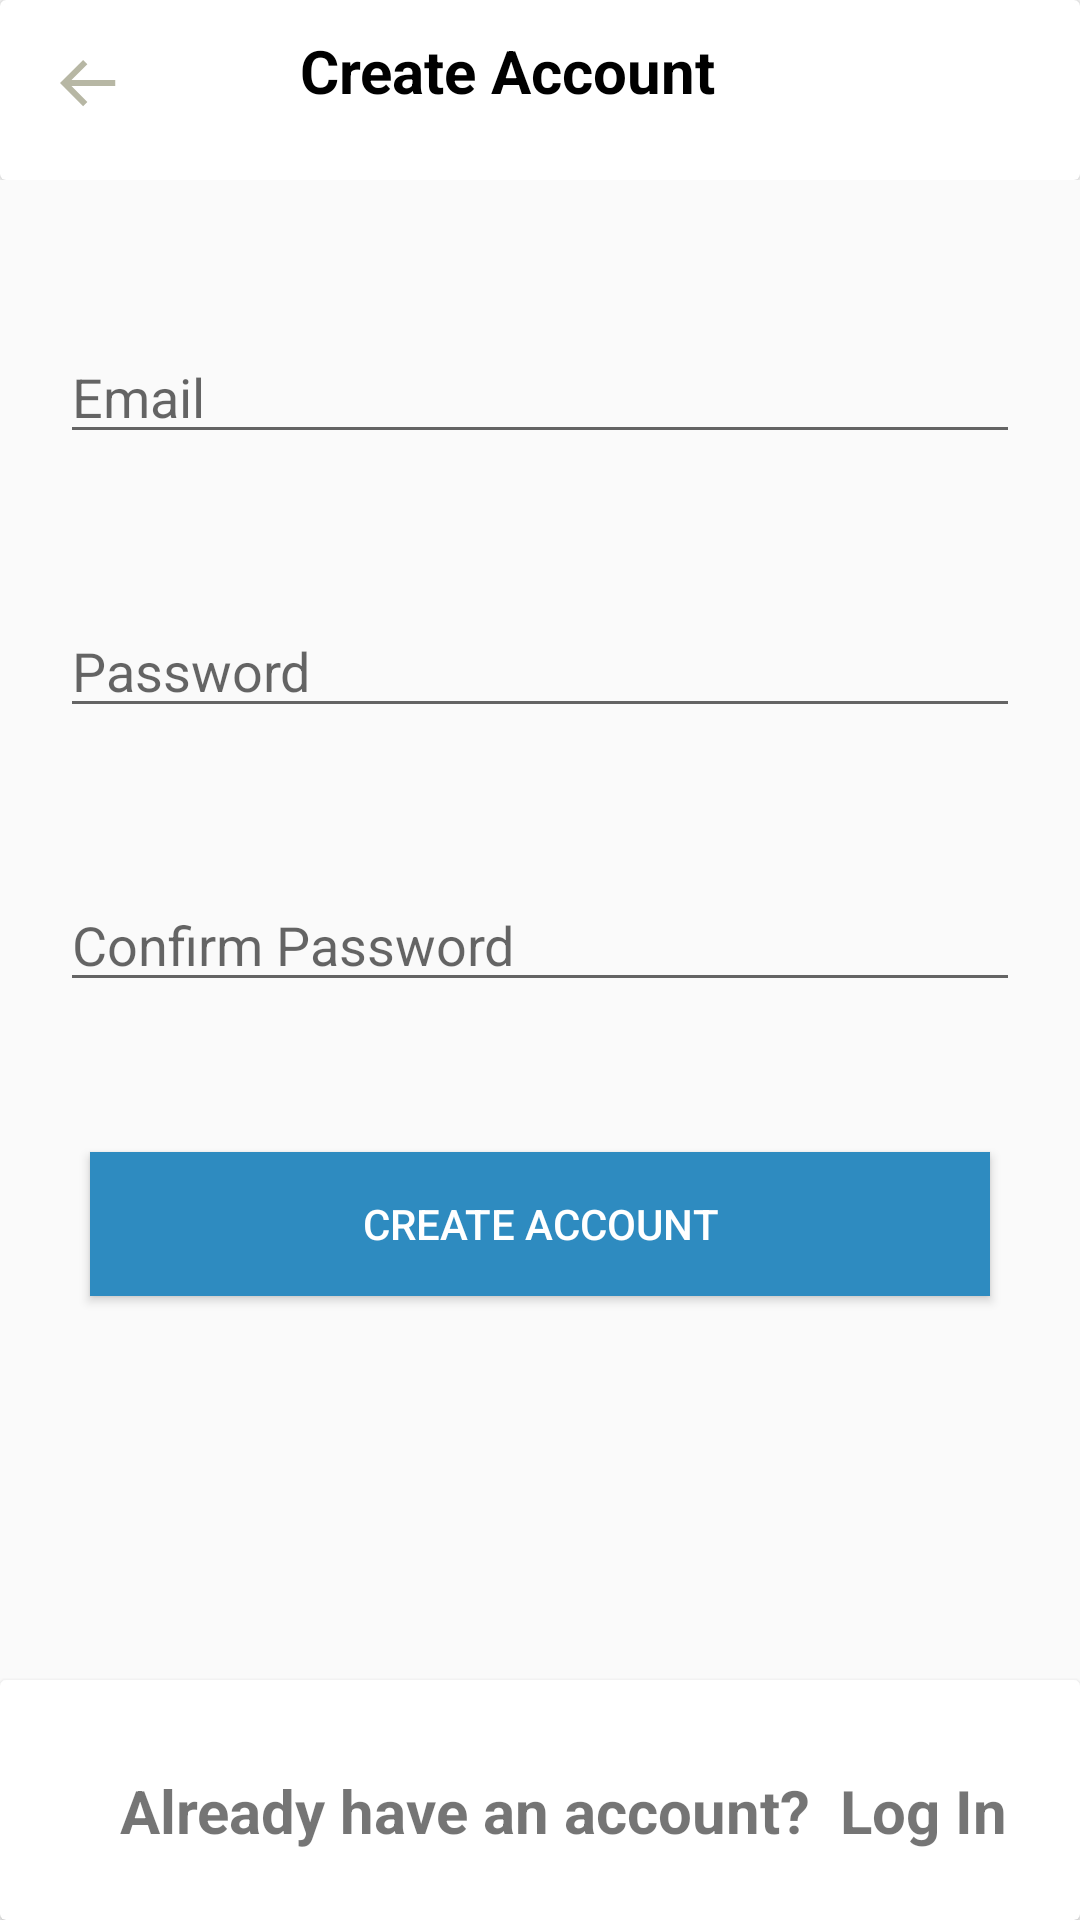

Icon click points for this 1080px x 1920px phone screenshot, format [x,y]:
backarrow: [87,83]
